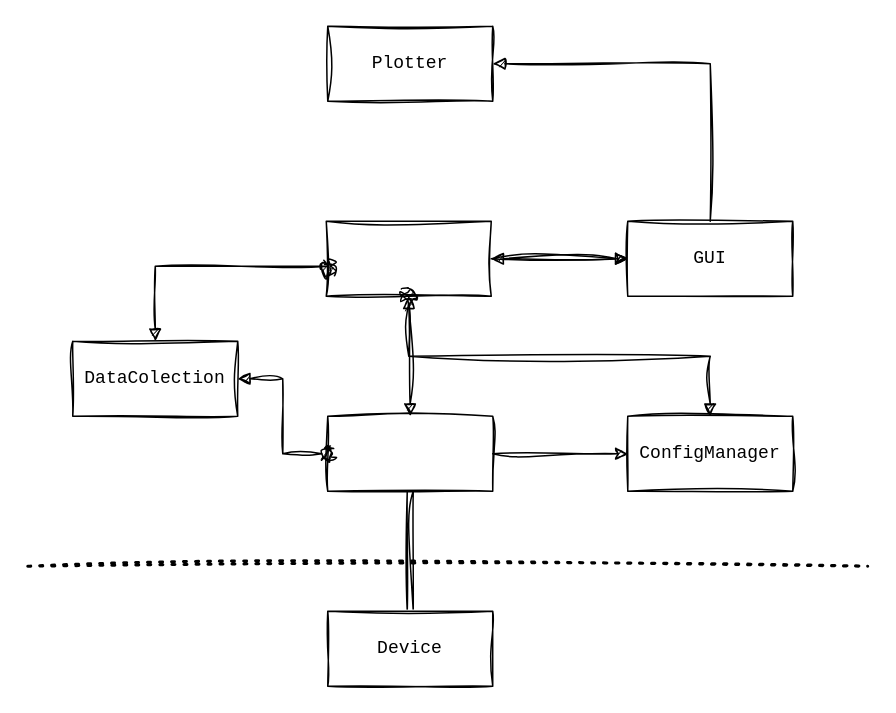
Some shapes in this 896 by 713 pixel diagram are drawn without their labels. Here are the shapes that lost their labels. From the top down, the centre of each, then its label:
the point at 408,258: App
the point at 409,453: Comunication
